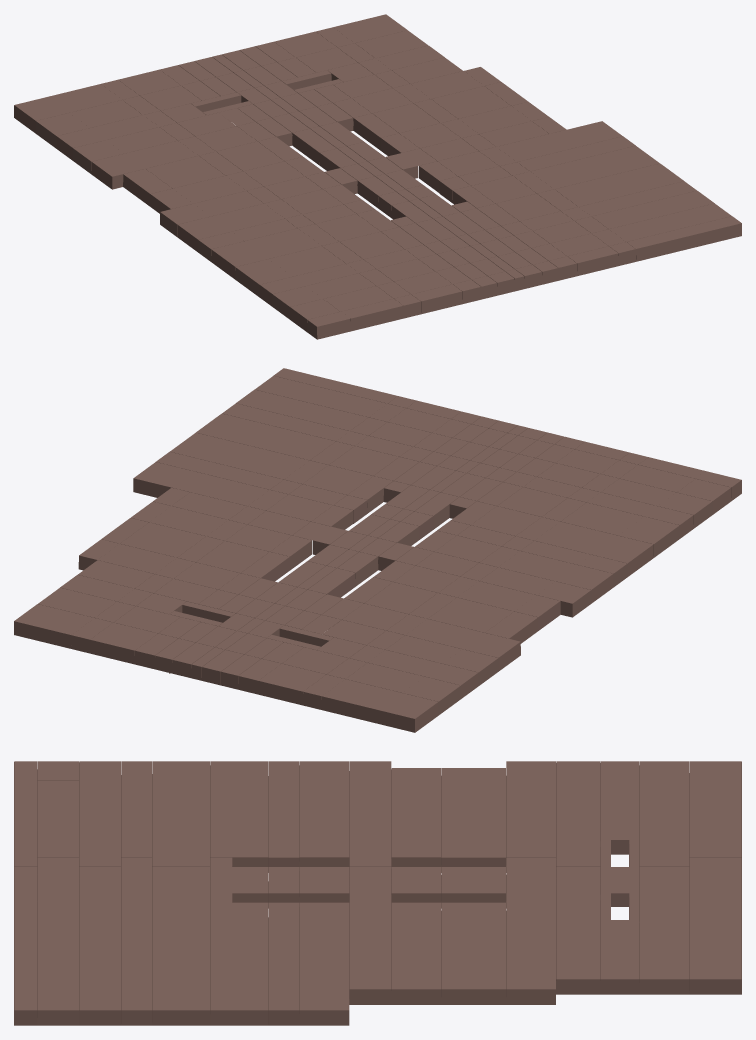
File: Gatroom_FloorTiles_150822.fbx
The picture shows the model from 3 angles, top to bottom: view 1: azimuth 30°, elevation 25°; view 2: azimuth 150°, elevation 25°; view 3: azimuth 270°, elevation 25°; orthographic projection. The views are drawn at different scales.
Visible parts, largest first — view 1: blueprint.108; view 2: blueprint.108; view 3: blueprint.108.
Part boxes in pixels (box(x1,y1,x2,y2)): blueprint.108: box(14, 14, 741, 339); blueprint.108: box(14, 368, 741, 732); blueprint.108: box(14, 761, 741, 1025).
Bounding box in the file's own units: 2381 × 298 × 2943.
